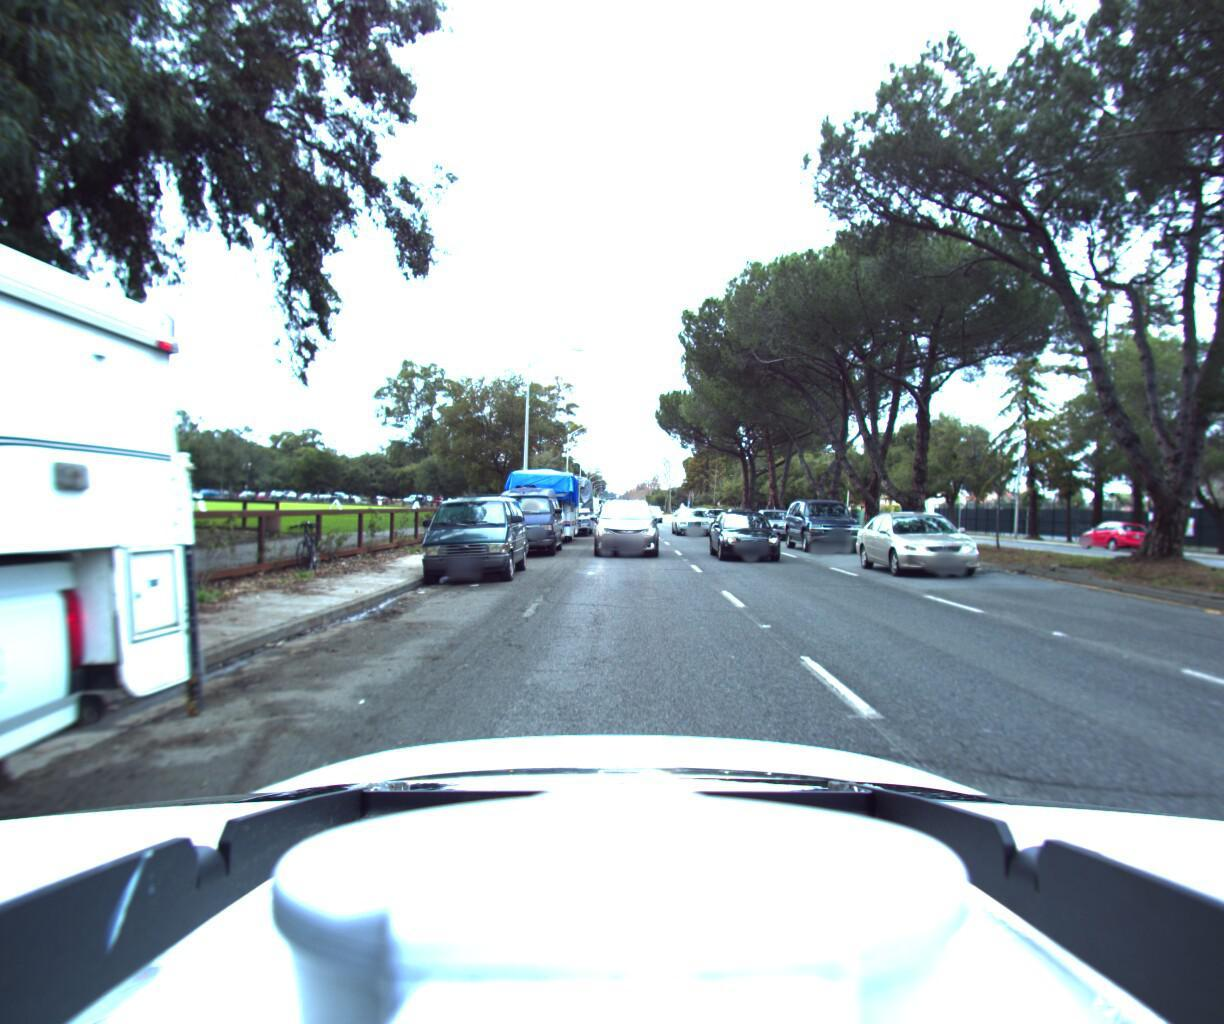bicycle: (264, 515, 329, 584)
car: (410, 488, 532, 586), (853, 502, 1001, 582), (481, 479, 566, 561), (779, 491, 866, 556), (588, 488, 665, 554), (709, 509, 797, 566), (1072, 516, 1156, 554), (746, 503, 808, 542), (671, 505, 712, 538), (646, 504, 667, 522)
other_vehicle: (499, 461, 582, 547), (531, 470, 597, 538)
